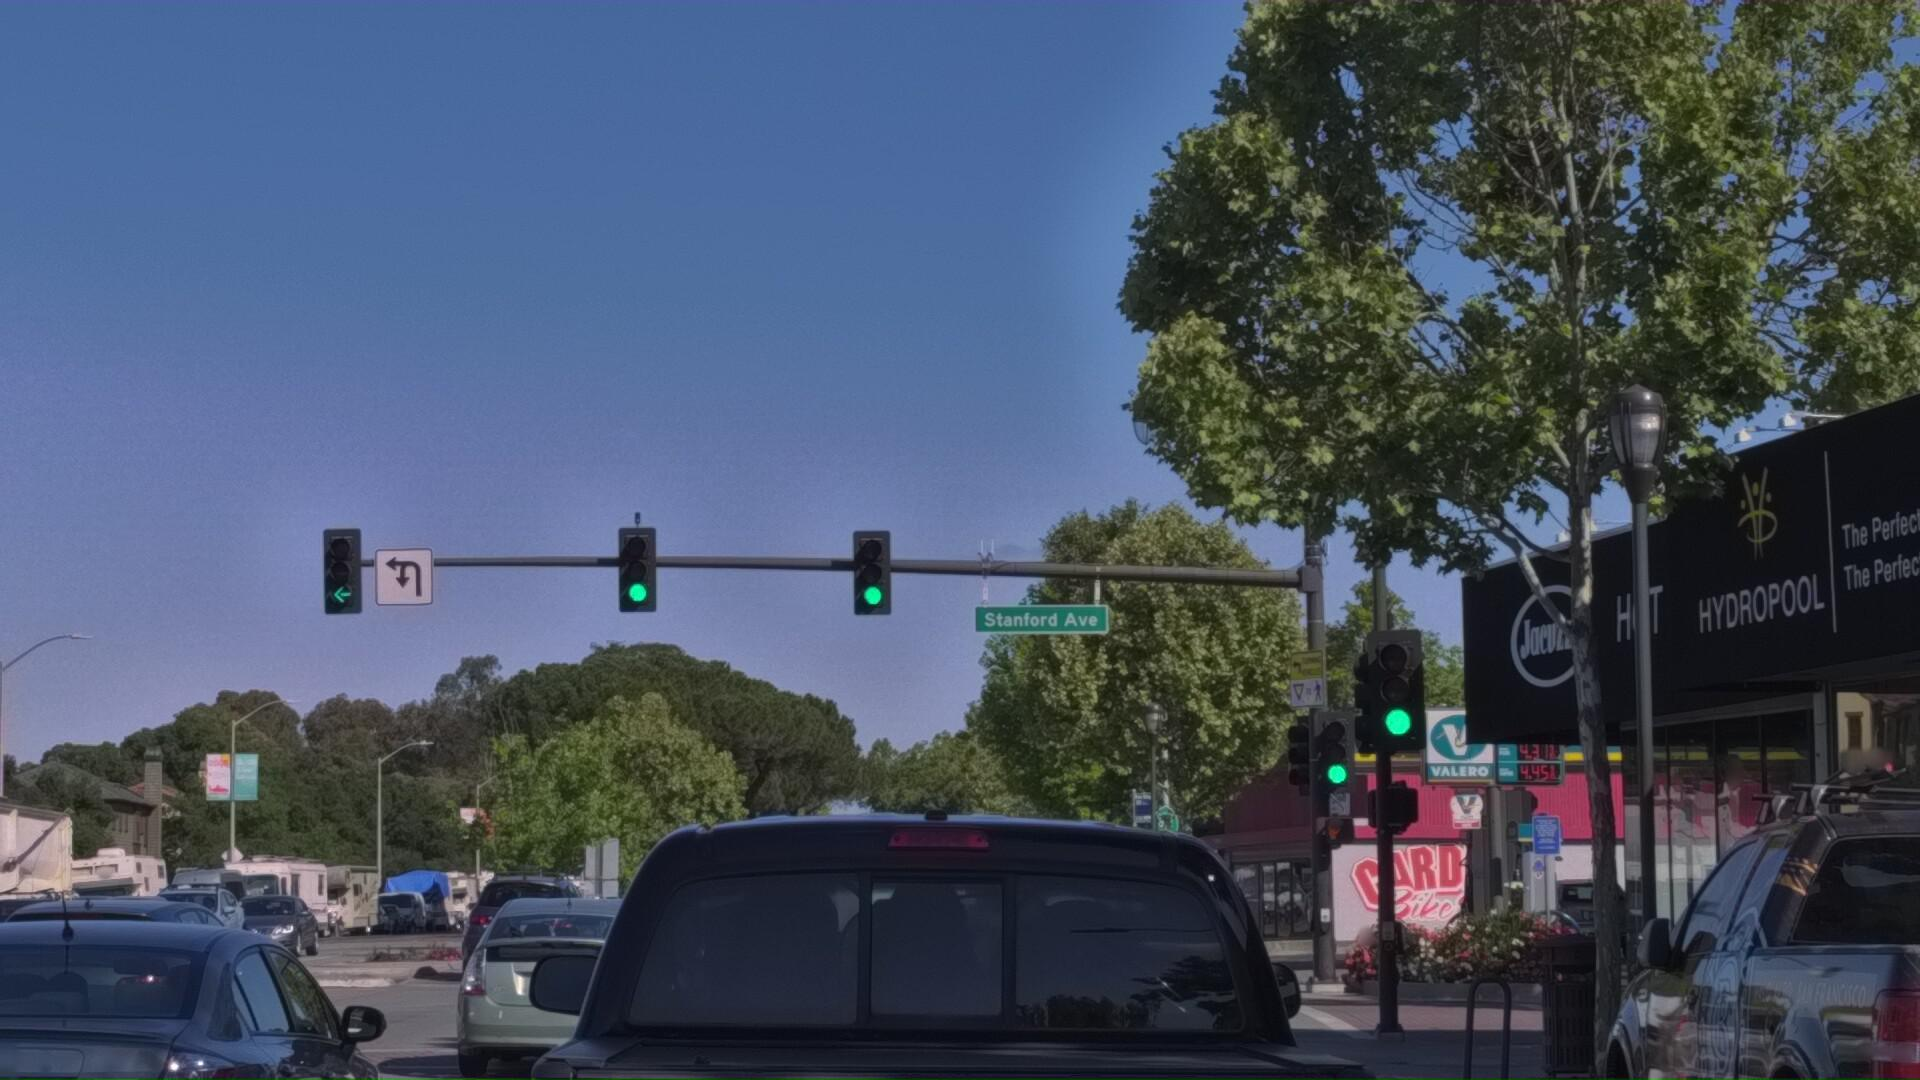car: (419, 781, 1443, 1080), (1534, 733, 1920, 1080), (0, 940, 444, 1080), (429, 976, 698, 1080), (837, 975, 1102, 1080), (0, 993, 295, 1080), (444, 975, 591, 1077), (135, 957, 266, 1051), (641, 1004, 787, 1080), (0, 939, 78, 1080), (223, 971, 342, 1044)
truck: (0, 840, 100, 1080)
